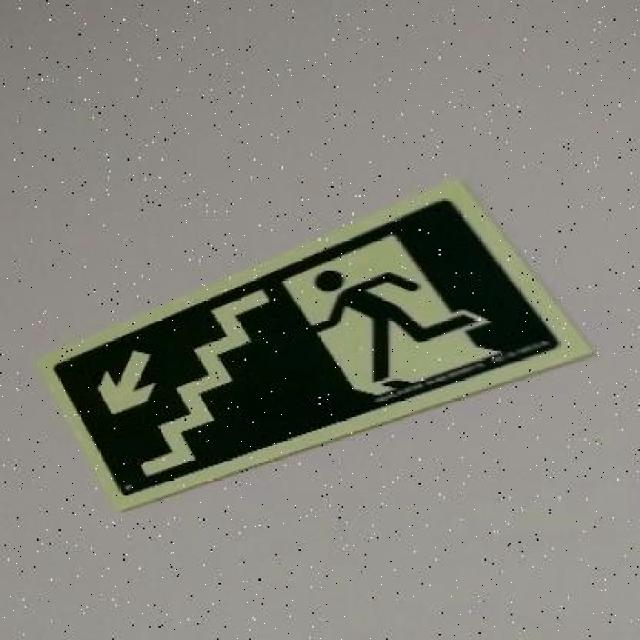emergency_exit: (41, 178, 595, 512)
